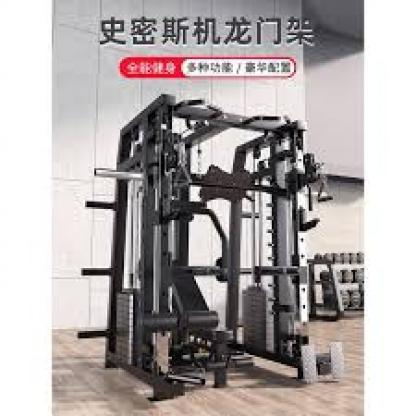smith machine: (80, 93, 311, 401)
